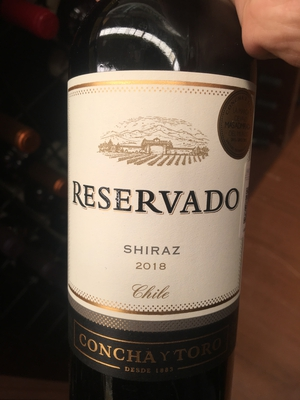reservado shiraz: (57, 12, 265, 400)
